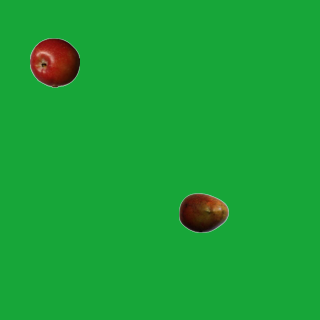Apple Braeburn: (29, 37, 79, 87)
Mango Red: (178, 187, 228, 237)
